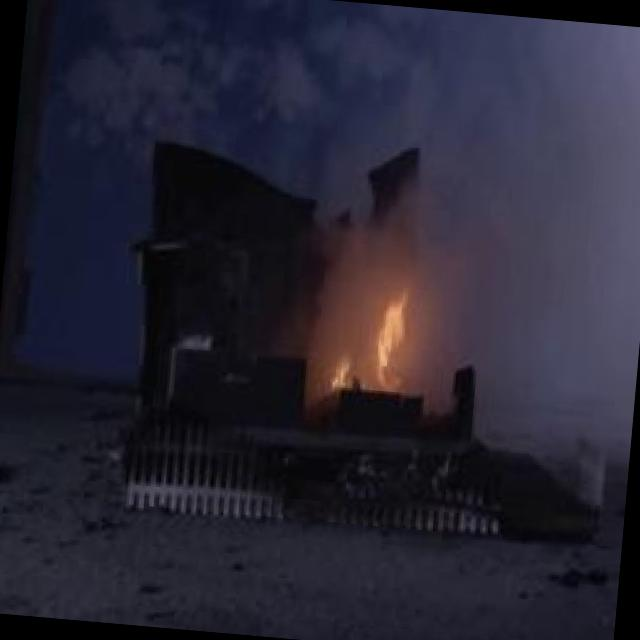fire: (324, 239, 448, 408)
smoke: (436, 15, 640, 292)
